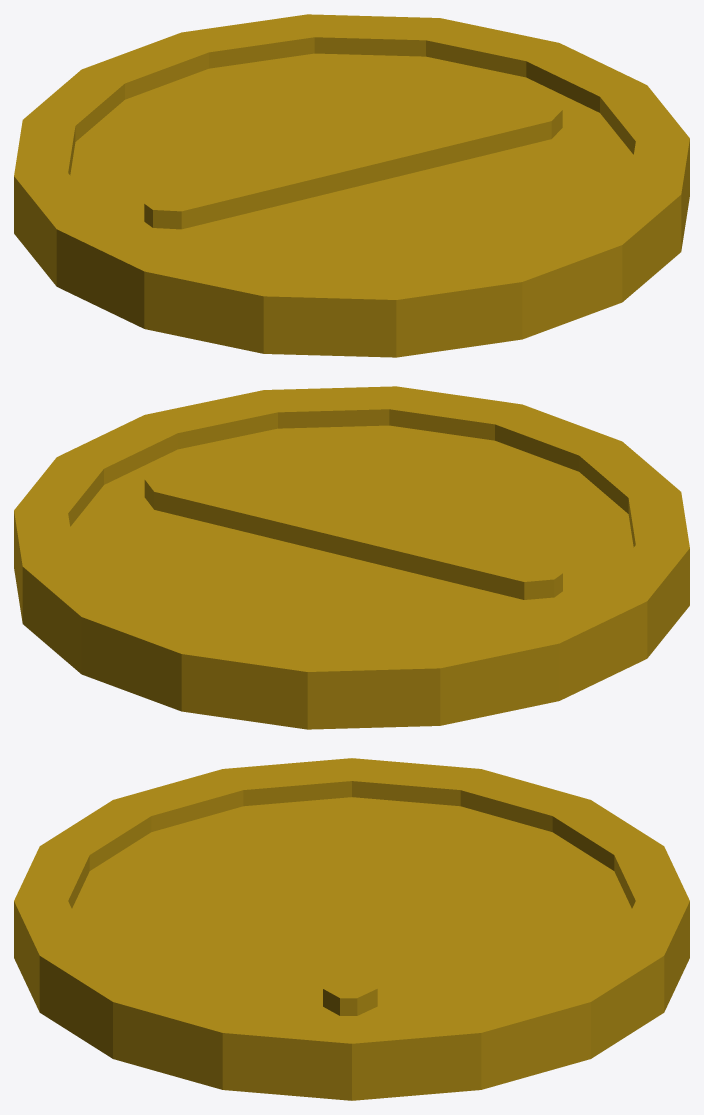
The model's file is GoldenCoin.fbx.
3 renders of one model, top to bottom at view 1: azimuth 30°, elevation 25°; view 2: azimuth 150°, elevation 25°; view 3: azimuth 270°, elevation 25°, orthographic.
Parts seen in each view (by area): view 1: Coin; view 2: Coin; view 3: Coin.
Part boxes in pixels (x1=…): Coin: x1=14, y1=14, x2=689, y2=357; Coin: x1=14, y1=386, x2=689, y2=729; Coin: x1=14, y1=758, x2=689, y2=1100.
Bounding box in the file's own units: 200 × 19.94 × 200.
